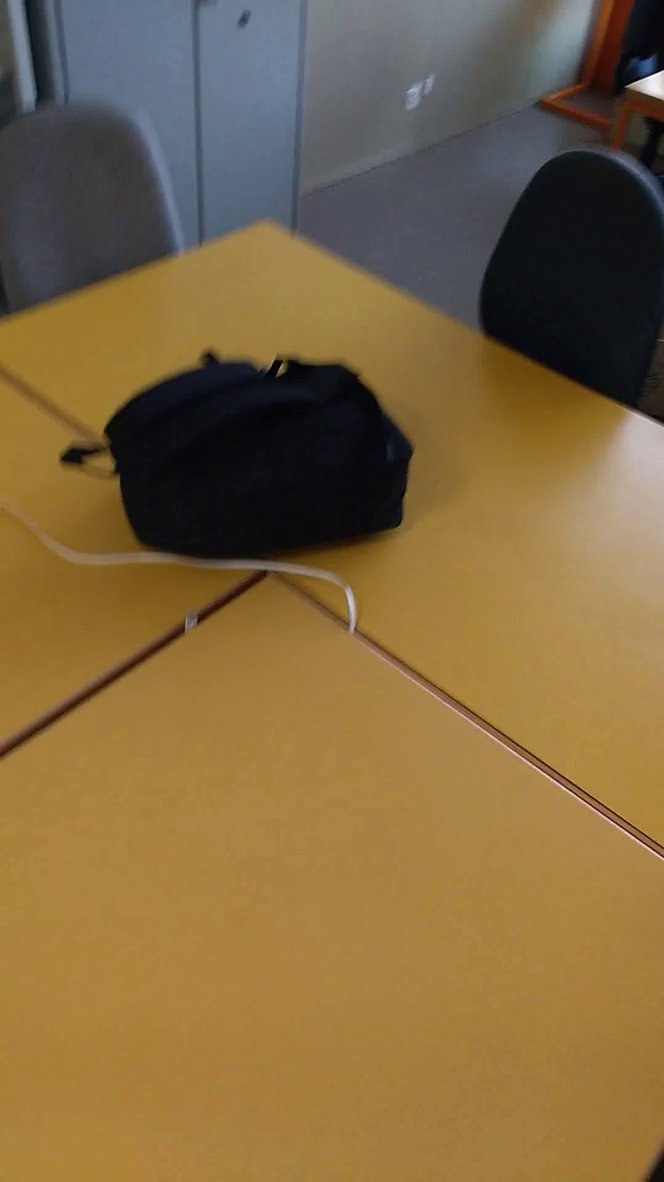bag: (53, 345, 430, 568)
chair: (468, 131, 664, 433), (2, 86, 205, 322)
